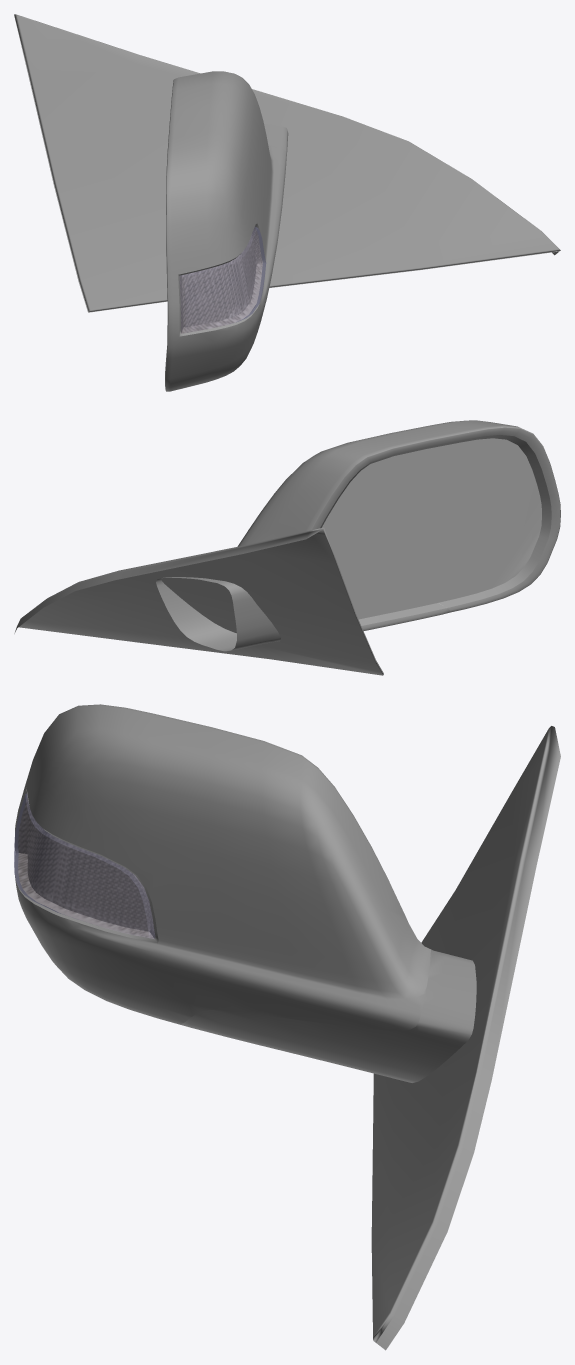
3 views of the same model, one above another, from view 1: azimuth 30°, elevation 25°; view 2: azimuth 150°, elevation 25°; view 3: azimuth 270°, elevation 25° (orthographic). The views are drawn at different scales.
Parts seen in each view (by area): view 1: X8163_281I_R_X8163_281I_R_5_DaS, X8163_281I_R_X8163_281I_R_3_DTaSI, X8163_281I_R_1_N_X8163_281I_R, X8163_281I_R_X8163_281I_R_5_DaS_E; view 2: X8163_281I_R_X8163_281I_R_5_DaS, X8163_281I_R_X8163_281I_R_4_DTaSI; view 3: X8163_281I_R_X8163_281I_R_5_DaS, X8163_281I_R_X8163_281I_R_3_DTaSI, X8163_281I_R_1_N_X8163_281I_R, X8163_281I_R_X8163_281I_R_5_DaS_E.
Part boxes in pixels (x1,y1,x2,y2): X8163_281I_R_X8163_281I_R_5_DaS: [14, 14, 560, 391]; X8163_281I_R_X8163_281I_R_3_DTaSI: [180, 226, 266, 333]; X8163_281I_R_1_N_X8163_281I_R: [179, 227, 262, 333]; X8163_281I_R_X8163_281I_R_5_DaS_E: [178, 223, 265, 336]; X8163_281I_R_X8163_281I_R_5_DaS: [14, 420, 560, 675]; X8163_281I_R_X8163_281I_R_4_DTaSI: [322, 438, 541, 619]; X8163_281I_R_X8163_281I_R_5_DaS: [15, 704, 560, 1350]; X8163_281I_R_X8163_281I_R_3_DTaSI: [14, 793, 154, 938]; X8163_281I_R_1_N_X8163_281I_R: [18, 797, 155, 939]; X8163_281I_R_X8163_281I_R_5_DaS_E: [15, 787, 158, 943].
Size of the model in its own units: 39.32 by 21.26 by 29.12.
